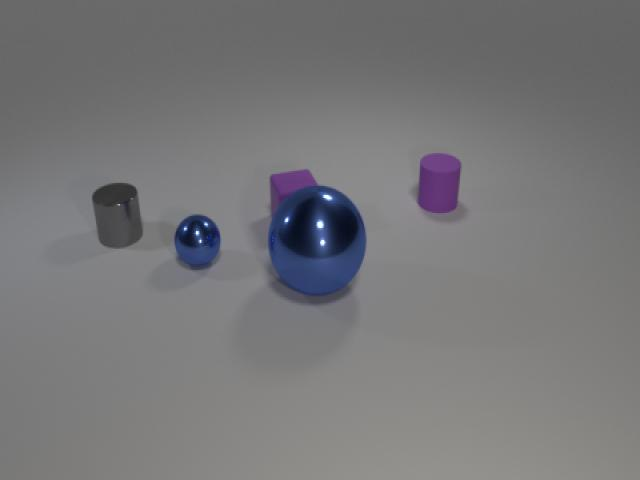cylinder: (85, 177, 147, 252), (412, 149, 464, 222)
round ball: (261, 181, 372, 301), (170, 207, 224, 272)
